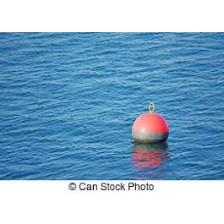buoy: (131, 113, 169, 142)
